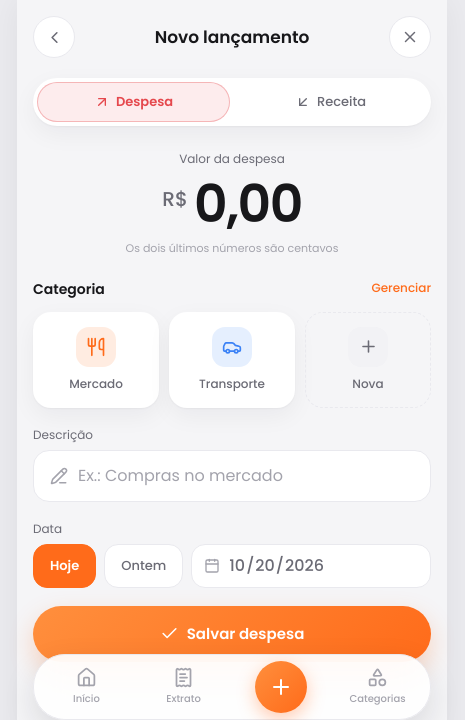
new transaction › builds the amount from typed digits and posts the transaction
This screenshot has width=465, height=720.
In the field named "Valor em reais": (248, 204) [194, 174, 302, 234], type "4590"
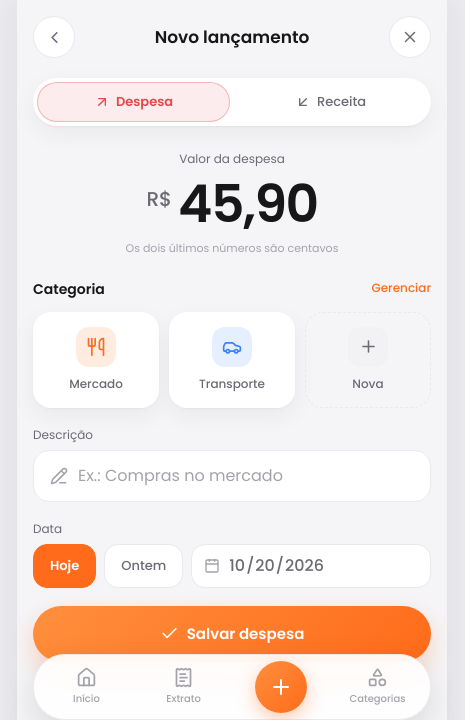
Expected: the field named "Valor em reais" holds "45,90", [178, 174, 318, 234]
Click the radio button labelled "Transporte": (232, 360) [169, 312, 295, 408]
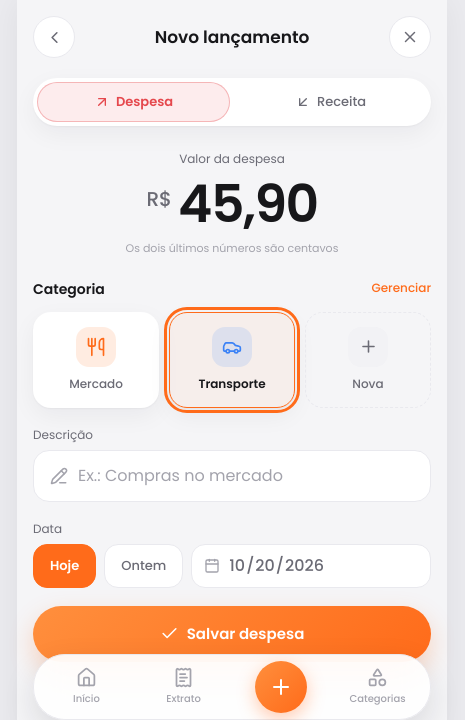
In the field labelled "Descrição": (246, 476) [78, 463, 414, 488], type "  Uber  "
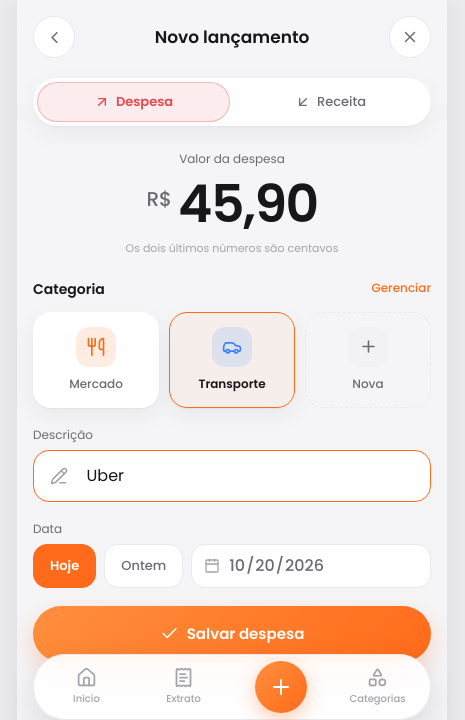
Click the button "Salvar despesa": (232, 634) [33, 606, 431, 662]
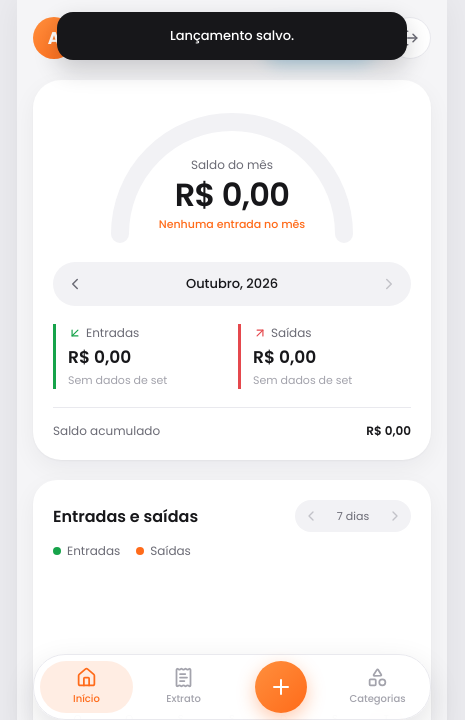
Expected: the heading "Visão geral" is shown, [87, 33, 202, 61]
Expected: the message reads "Lançamento salvo.", [170, 26, 294, 45]
